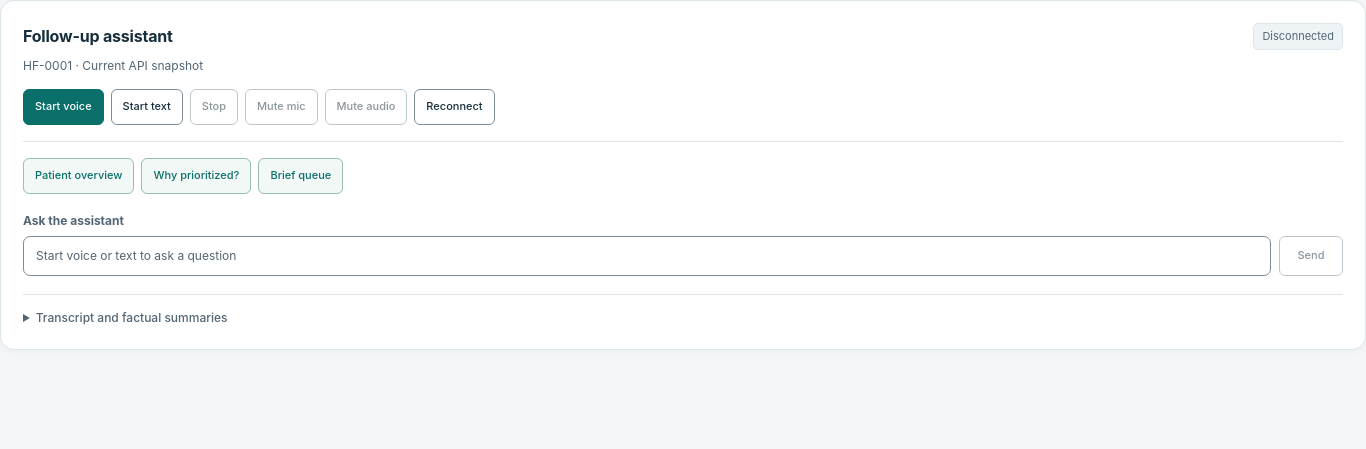
offers factual text after microphone denial
The width and height of the screenshot is (1366, 449).
Click the button "Start voice". click: (63, 106)
box: [23,88,104,124]
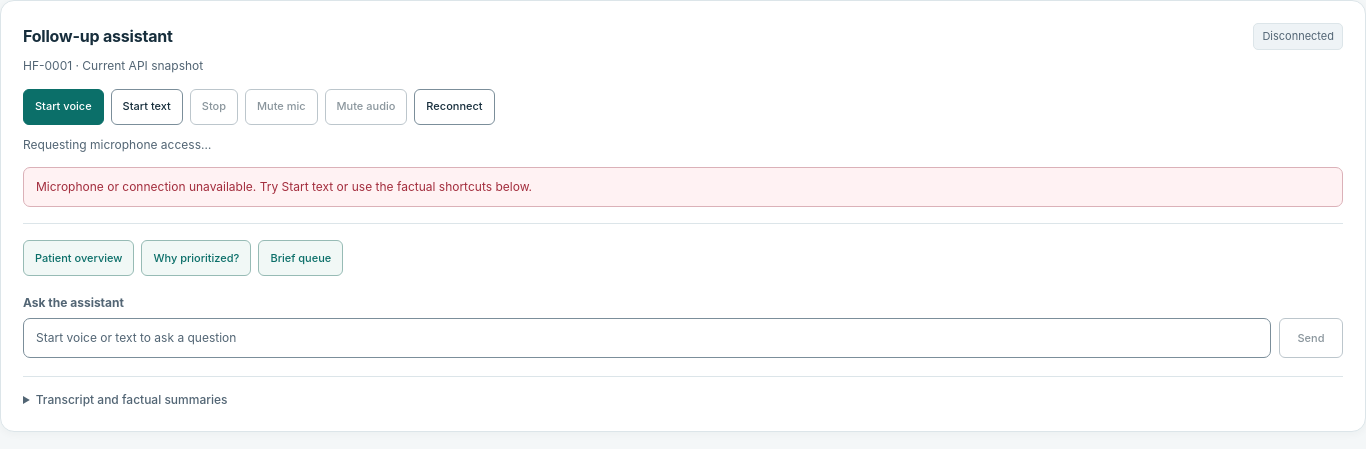
Expected: the button "Patient overview" is enabled, [23,240,134,276]
Now the 2nd message shows "Try Start text", box [36,179,532,194]
